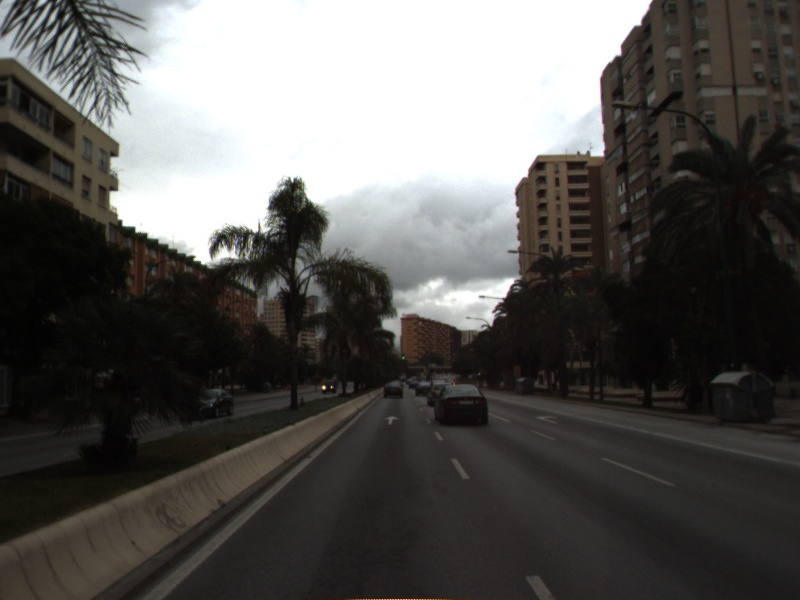RIGHT: (532, 411, 562, 426)
STRAIGHT: (381, 414, 403, 428)
